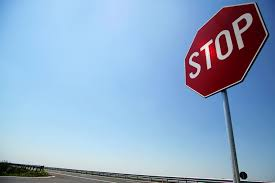SS: (181, 1, 269, 99)
